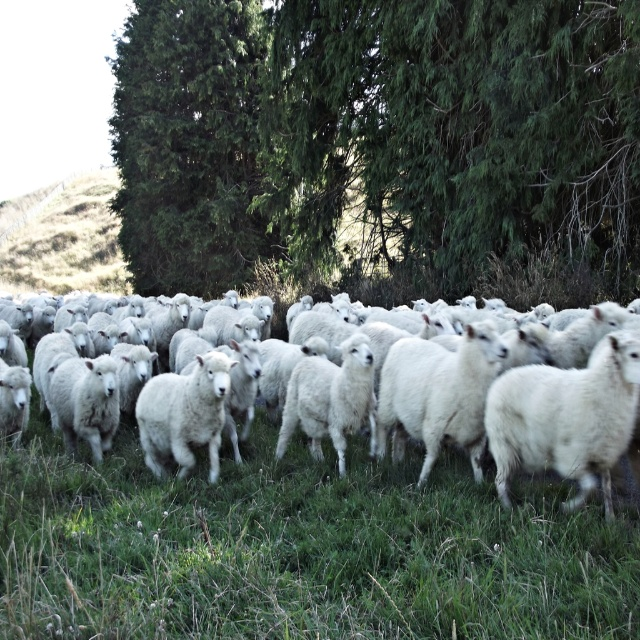Sheep: (0, 290, 640, 522)
